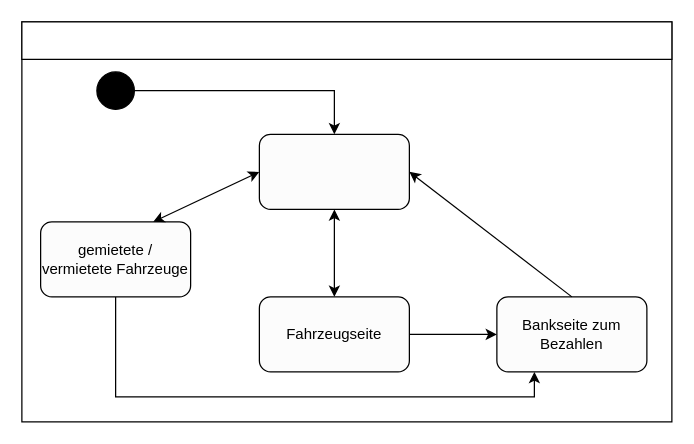
Some shapes in this 694 by 444 pixel diagram are drawn without their labels. The centre of each missing label's shape, as x and y in pixels:
Navigationsleiste: (x=346, y=40)
Seite zum auswählen der Fahrzeuge: (x=333, y=171)
